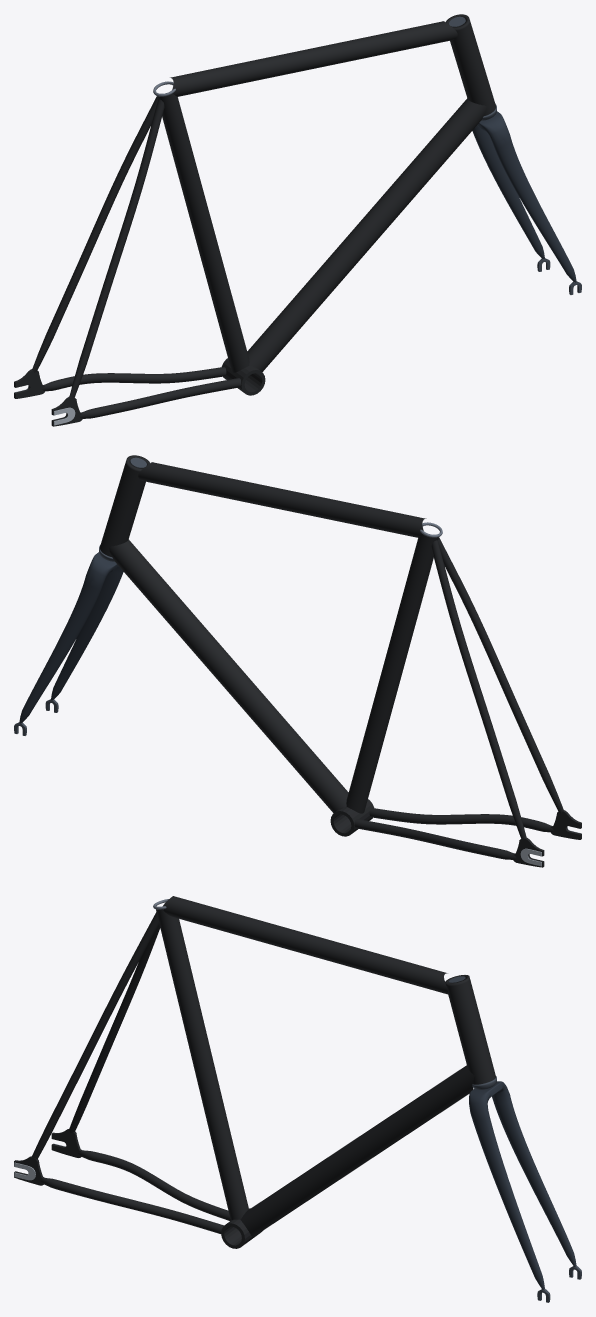
Rendered from dosnoventa-02-la-l.glb.
3 views of the same model, one above another, from view 1: azimuth 30°, elevation 25°; view 2: azimuth 150°, elevation 25°; view 3: azimuth 330°, elevation 25° (orthographic).
Visible parts, largest first — view 1: paint_down, paint_top, paint_seat, paint_seatstay_1, paint_seatstay_-1, fork_blade_1, paint_head, fork_blade_-1, paint_chainstay_-1, paint_chainstay_1, paint_bottom_bracket, rear_dropout_-1 (+1 smaller); view 2: paint_down, paint_top, paint_seat, paint_seatstay_-1, paint_seatstay_1, fork_blade_-1, paint_head, fork_blade_1, paint_chainstay_1, paint_chainstay_-1, paint_bottom_bracket, rear_dropout_1 (+1 smaller); view 3: paint_down, paint_seat, paint_top, paint_head, fork_blade_1, fork_blade_-1, paint_seatstay_1, paint_chainstay_1, paint_seatstay_-1, paint_chainstay_-1, fork_crown, paint_bottom_bracket (+1 smaller).
Boxes of the visible parts, x1,y1,x2,y2 form: paint_down: (247,98,487,372); paint_top: (170,21,457,96); paint_seat: (156,93,249,372); paint_seatstay_1: (69,99,164,397); paint_seatstay_-1: (32,97,157,372); fork_blade_1: (492,134,576,282); paint_head: (446,14,495,115); fork_blade_-1: (472,126,544,259); paint_chainstay_-1: (42,367,226,391); paint_chainstay_1: (79,378,241,418); paint_bottom_bracket: (221,358,265,395); rear_dropout_-1: (14,369,45,398); paint_down: (108,539,348,813); paint_top: (138,462,426,537); paint_seat: (346,534,439,813); paint_seatstay_-1: (431,540,526,838); paint_seatstay_1: (438,538,563,813); fork_blade_-1: (19,575,103,723); paint_head: (100,455,149,556); fork_blade_1: (51,567,123,700); paint_chainstay_1: (369,808,553,832); paint_chainstay_-1: (354,819,516,859); paint_bottom_bracket: (330,799,374,836); rear_dropout_1: (550,810,581,839); paint_down: (240,1065,474,1236); paint_seat: (156,909,248,1220); paint_top: (163,896,447,994); paint_head: (445,975,495,1084); fork_blade_1: (470,1110,544,1289); fork_blade_-1: (492,1094,576,1266); paint_seatstay_1: (32,912,159,1159); paint_chainstay_1: (40,1177,223,1233); paint_seatstay_-1: (69,924,160,1132); paint_chainstay_-1: (78,1150,230,1220); fork_crown: (469,1081,509,1113); paint_bottom_bracket: (221,1208,262,1248).
Size of the model in its own units: 1.02 by 0.5998 by 0.1443.
